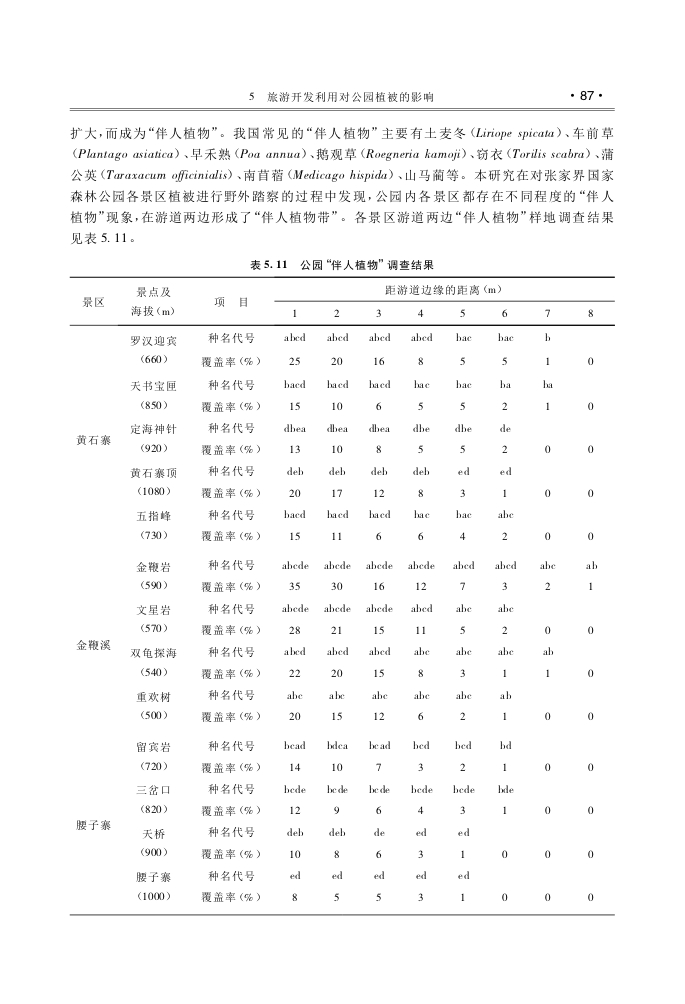table: (68, 276, 614, 916)
